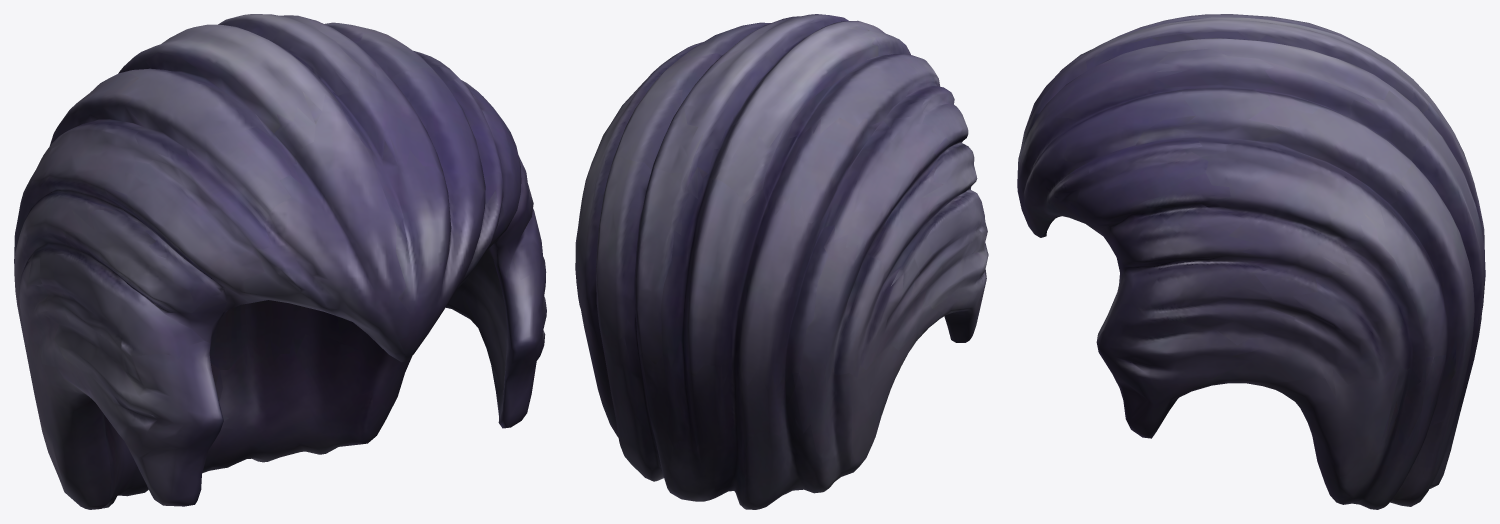
Rendered from cs-vamp-hair.glb.
The picture shows the model from 3 angles, left to right: view 1: azimuth 30°, elevation 25°; view 2: azimuth 150°, elevation 25°; view 3: azimuth 270°, elevation 25°; orthographic projection. The views are drawn at different scales.
Parts seen in each view (by area): view 1: tripo_node_2ab9ba74-0448-4973-9ccb-27211c10f4af; view 2: tripo_node_2ab9ba74-0448-4973-9ccb-27211c10f4af; view 3: tripo_node_2ab9ba74-0448-4973-9ccb-27211c10f4af.
Part boxes in pixels (box(x1,y1,x2,y2)): tripo_node_2ab9ba74-0448-4973-9ccb-27211c10f4af: box(14, 14, 546, 509); tripo_node_2ab9ba74-0448-4973-9ccb-27211c10f4af: box(575, 14, 988, 509); tripo_node_2ab9ba74-0448-4973-9ccb-27211c10f4af: box(1017, 14, 1485, 509).
Size of the model in its own units: 0.8623 by 1 by 0.9512.
1 material, 1 textured.
